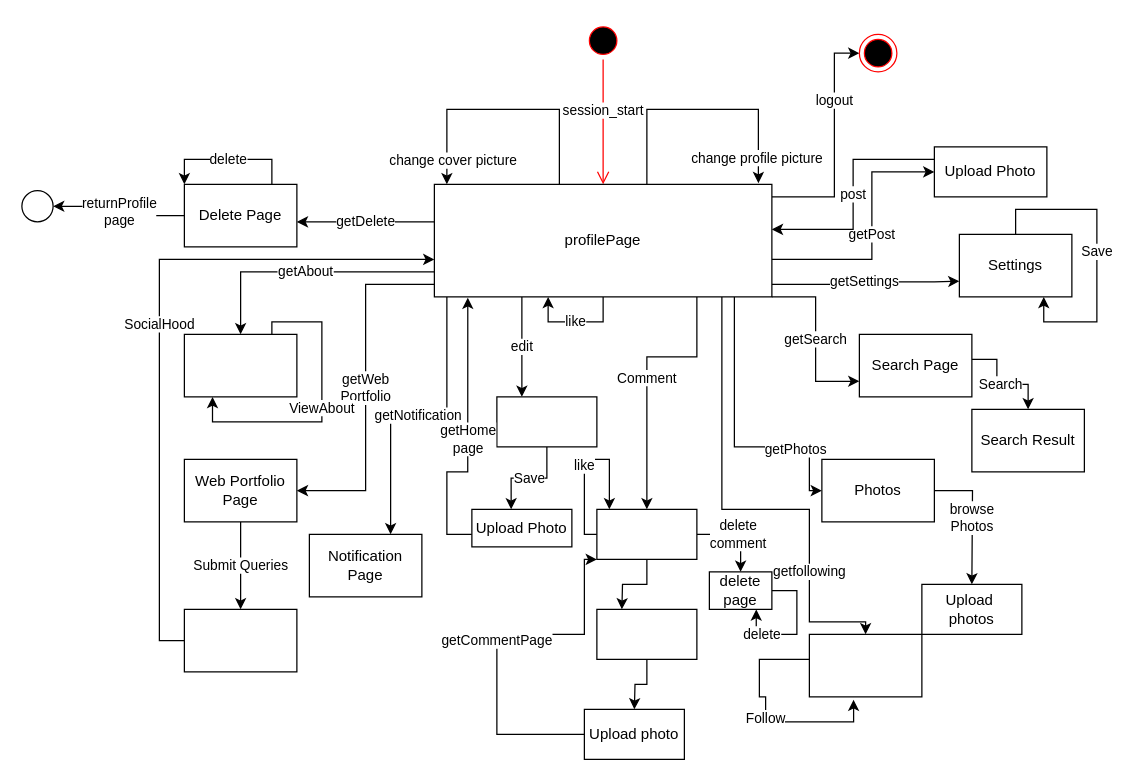
The diagram is 1134 pixels wide and 781 high, and some of its shapes have lost their labels. The centre of each missing label's shape, as x and y in pixels:
"About Page" goes at (240,365).
"comment Page" goes at (646,533).
"Edit comment Page" goes at (646,633).
"Edit Post Page" goes at (546,421).
"Following Page" goes at (865,665).
"Resume" goes at (240,640).
